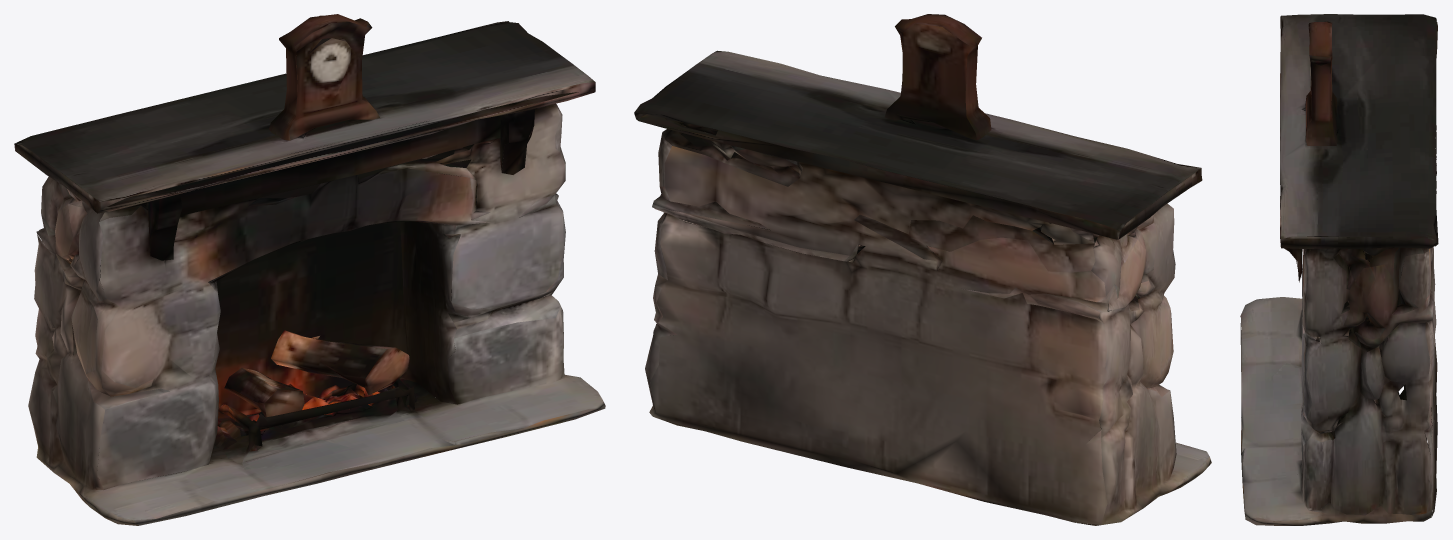
The model's file is chimenea.glb.
3 renders of one model, left to right at view 1: azimuth 30°, elevation 25°; view 2: azimuth 150°, elevation 25°; view 3: azimuth 270°, elevation 25°, orthographic. The views are drawn at different scales.
Parts seen in each view (by area): view 1: geometry_0; view 2: geometry_0; view 3: geometry_0.
Part boxes in pixels (left/top/right/bottom): geometry_0: left=14, top=14, right=605, bottom=525; geometry_0: left=634, top=14, right=1211, bottom=525; geometry_0: left=1240, top=14, right=1438, bottom=525.
Size of the model in its own units: 1.6 by 1.3 by 0.5988.
1 material, 1 textured.
